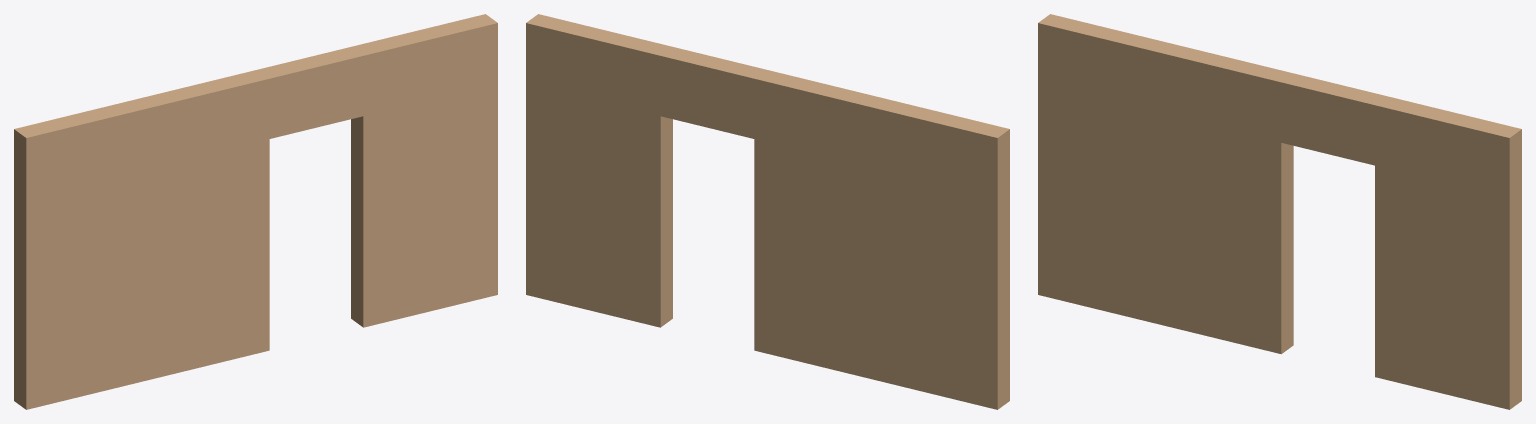
The model's file is Wall 3.FBX.
3 views of the same model, side by side, from view 1: azimuth 30°, elevation 25°; view 2: azimuth 150°, elevation 25°; view 3: azimuth 330°, elevation 25° (orthographic).
Visible parts, largest first — view 1: Wall 3; view 2: Wall 3; view 3: Wall 3.
Part boxes in pixels (box(x1,y1,x2,y2)): Wall 3: box(14, 14, 497, 409); Wall 3: box(526, 14, 1009, 409); Wall 3: box(1038, 14, 1521, 409).
Size of the model in its own units: 474 by 261 by 21.44.
